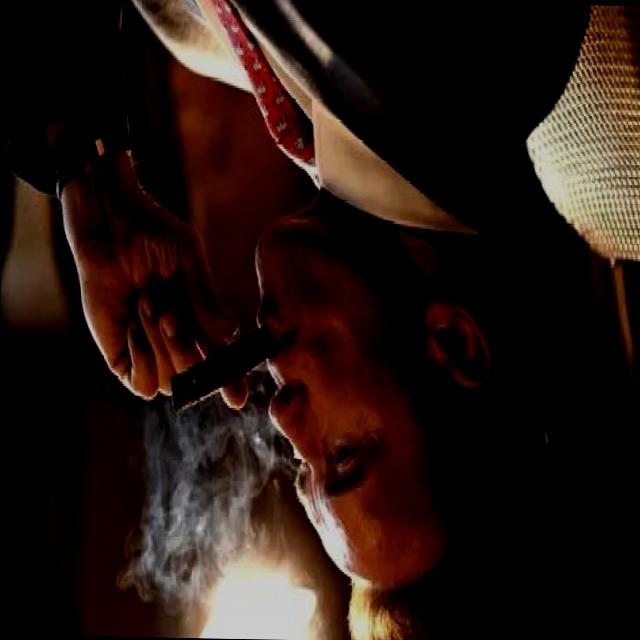smoke: (169, 314, 276, 419)
